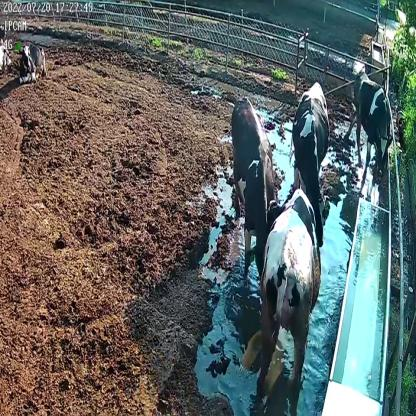cow: (257, 184, 323, 404), (230, 96, 285, 279), (290, 78, 334, 244), (346, 72, 395, 178), (18, 42, 48, 84)
